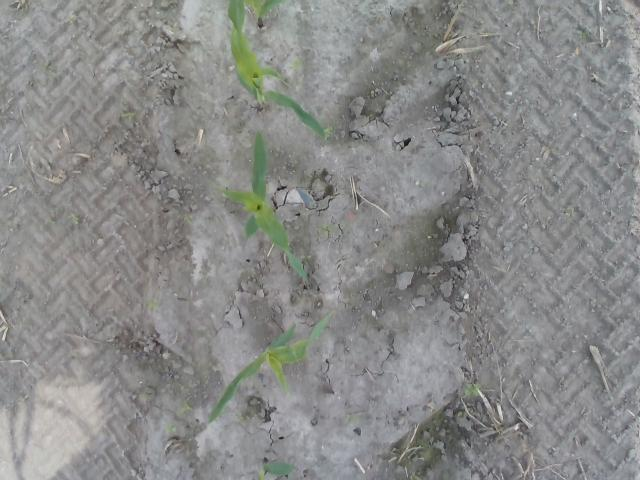Maize: (208, 130, 310, 289), (226, 0, 330, 142), (208, 313, 332, 424), (248, 1, 286, 30), (257, 455, 299, 480)
Weeds: (463, 380, 481, 400), (120, 104, 136, 125), (144, 296, 162, 312), (315, 223, 333, 237), (343, 412, 358, 427), (42, 62, 56, 78), (180, 402, 194, 416), (164, 423, 180, 435), (181, 212, 193, 224), (70, 213, 80, 226), (566, 210, 580, 219), (293, 58, 302, 71), (18, 396, 28, 406), (343, 223, 353, 232), (455, 410, 464, 420), (412, 473, 422, 480)
